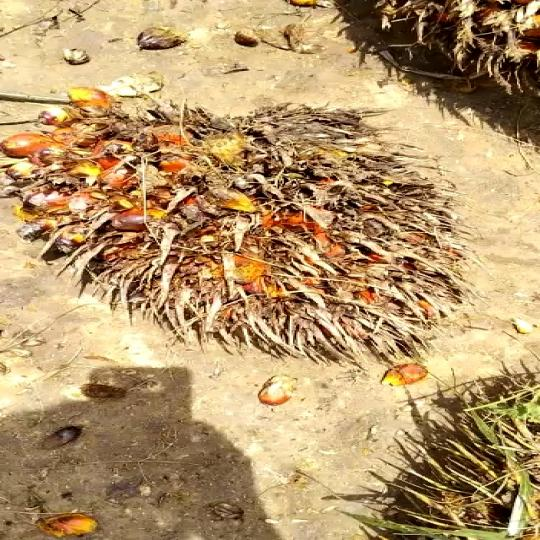terlalu masak: (0, 84, 494, 368)
